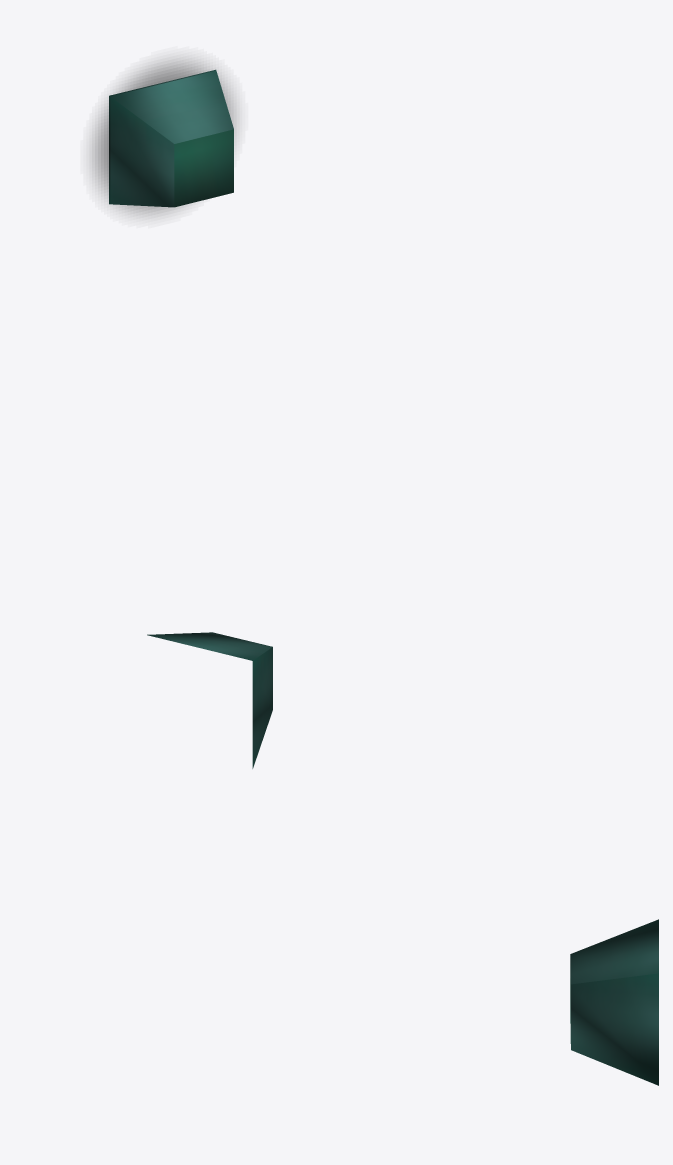
File: prop_DL_post_one_light.glb
3 renders of one model, top to bottom at view 1: azimuth 30°, elevation 25°; view 2: azimuth 150°, elevation 25°; view 3: azimuth 270°, elevation 25°, orthographic. The views are drawn at different scales.
Visible parts, largest first — view 1: o13, g8; view 2: o13; view 3: o13.
Boxes of the visible parts, x1=… form: o13: x1=109, y1=69, x2=233, y2=207; g8: x1=92, y1=59, x2=236, y2=215; o13: x1=147, y1=632, x2=272, y2=768; o13: x1=570, y1=919, x2=658, y2=1085.
Size of the model in its own units: 7 by 3.96 by 11.3.
Materials: 2 (2 with a texture image).
